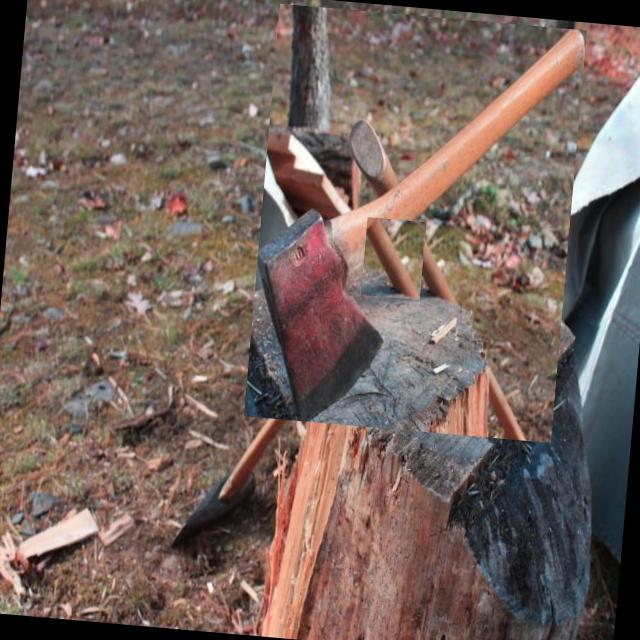Axe: (258, 30, 585, 421), (173, 355, 316, 544), (367, 218, 420, 299), (440, 132, 495, 202)
